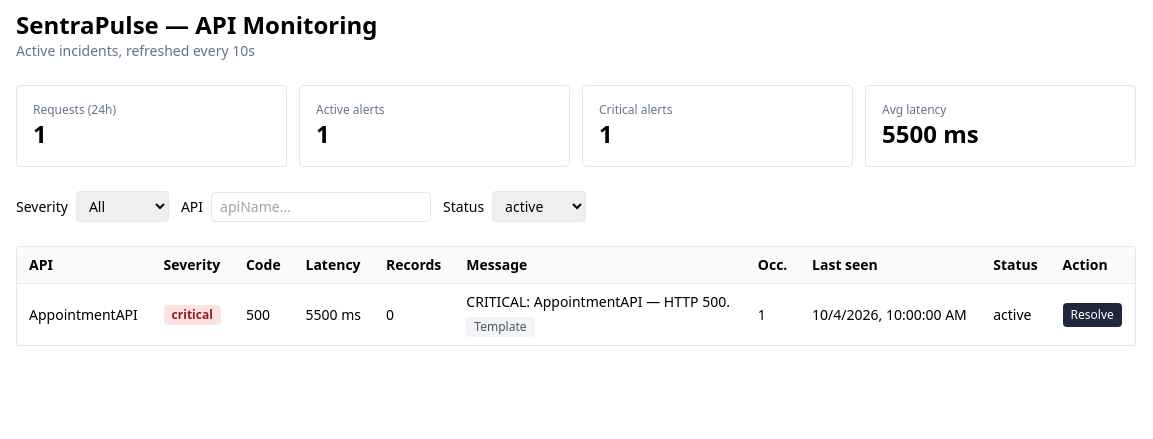
Test: DashboardPage resolve › shows a visible error when resolve fails, dismissible
Check: the text "AppointmentAPI" is shown, box [17,284,152,345]
Click the button "Resolve" at [1092, 314], box [1063,302,1122,326]
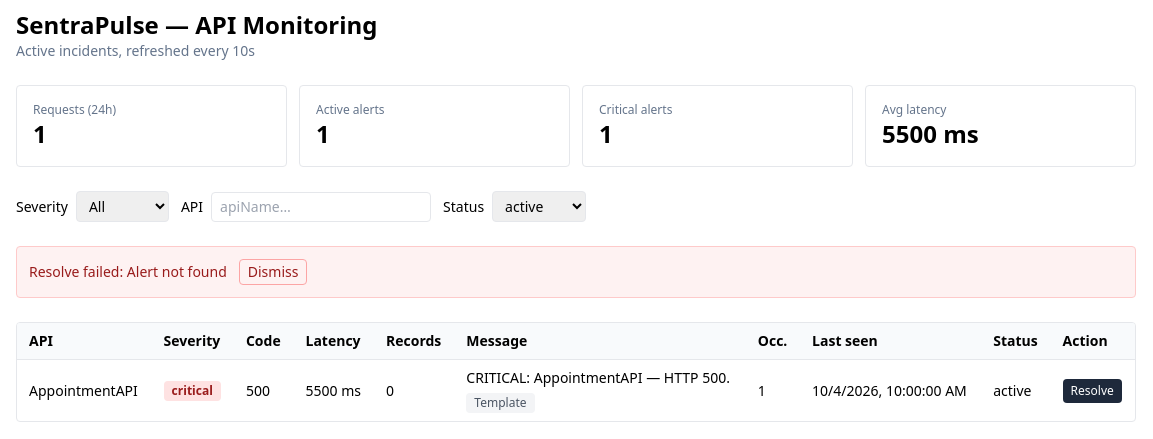
Check: the message shows "Resolve failed: Alert not found", box [29,262,227,281]
Click the button "Dismiss" at [273, 272], box [239,259,308,285]
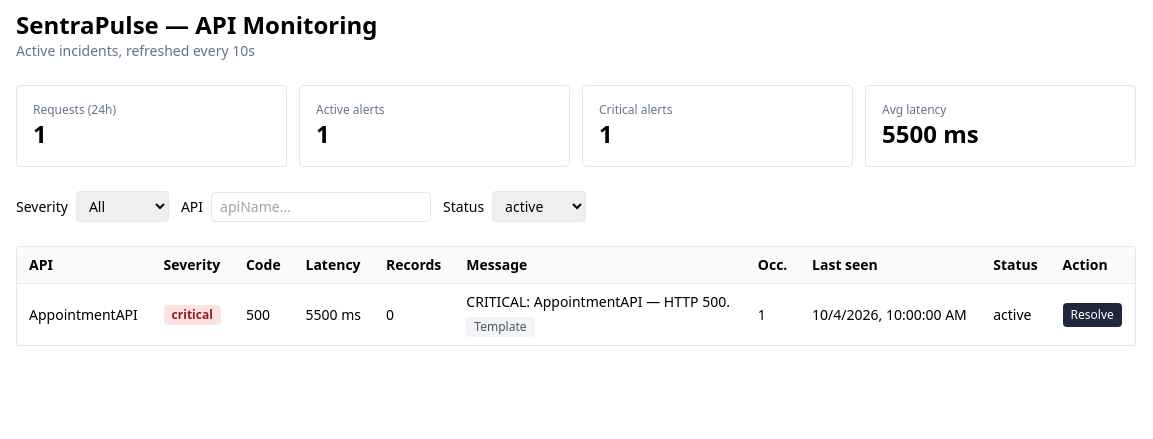
Check: the message "Resolve failed: Alert not found Dismiss" is gone
